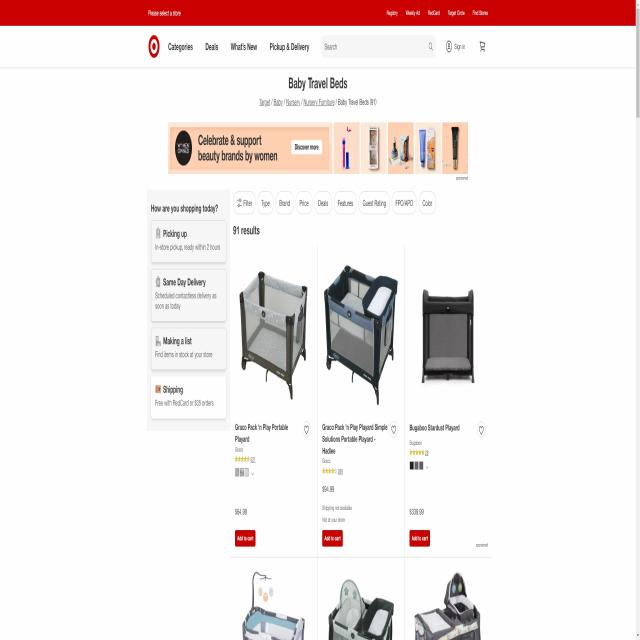menu-bar: (442, 35, 487, 63)
search: (319, 30, 437, 60)
tab-bar: (144, 32, 312, 59), (384, 2, 491, 19)
